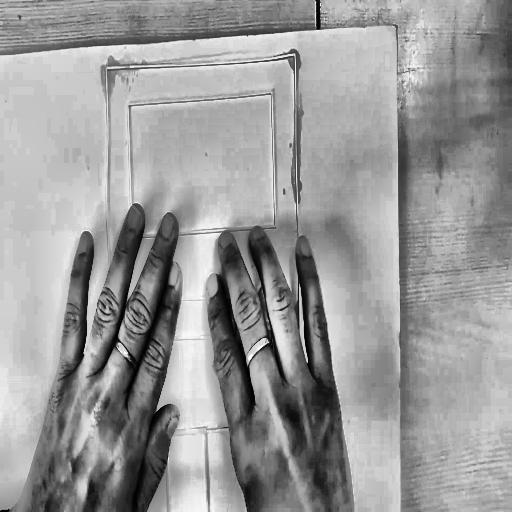door: (99, 44, 312, 512)
top_right: (392, 18, 401, 36)
